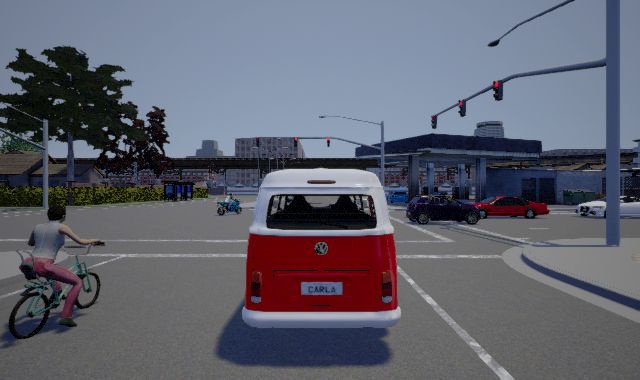bike: (7, 204, 105, 338)
motobike: (215, 191, 244, 217)
traffic_light: (493, 80, 503, 101), (458, 99, 466, 117), (431, 115, 437, 129), (256, 137, 260, 147), (327, 137, 330, 147), (294, 137, 297, 147)
vehicle: (242, 167, 402, 328), (406, 192, 480, 225), (472, 195, 554, 219), (575, 193, 640, 218), (387, 190, 411, 204)
